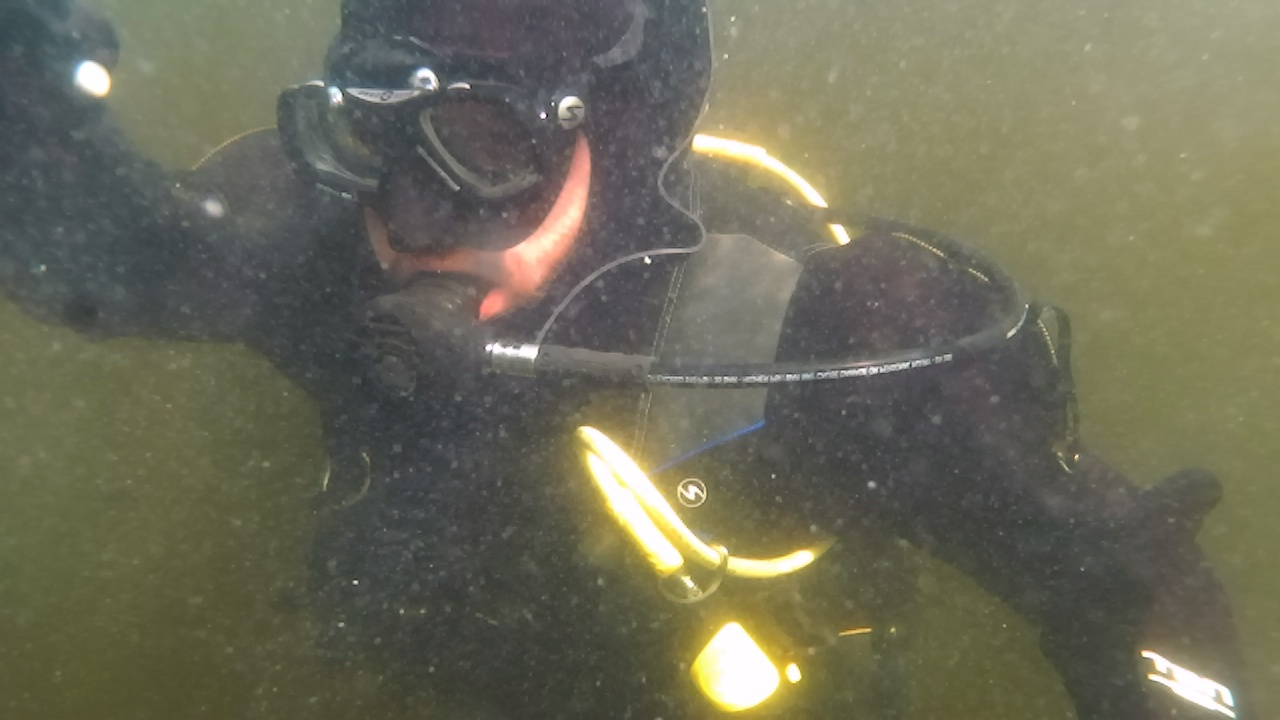Head: (252, 18, 600, 356)
